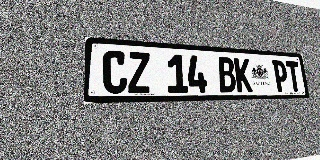1: (166, 54, 188, 93)
4: (186, 55, 207, 93)
B: (217, 57, 237, 92)
C: (103, 50, 127, 94)
K: (234, 58, 253, 92)
P: (272, 60, 289, 92)
T: (285, 61, 302, 92)
Z: (127, 52, 151, 93)
